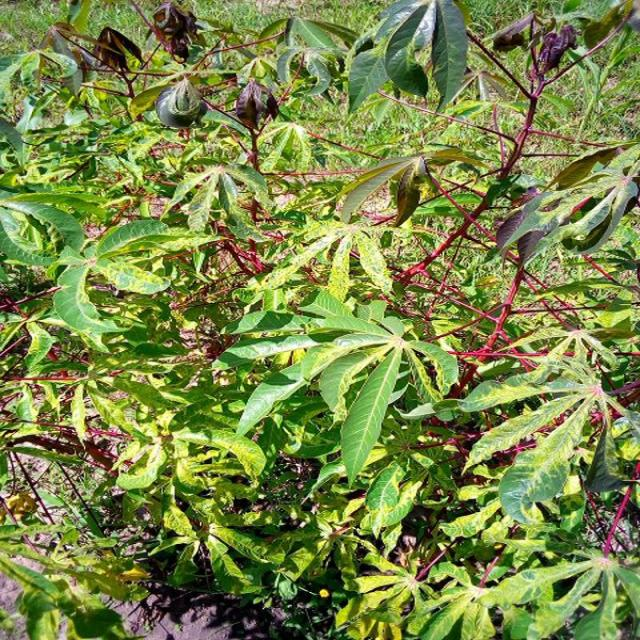cassava leaf: (216, 286, 458, 488), (340, 342, 402, 488)
